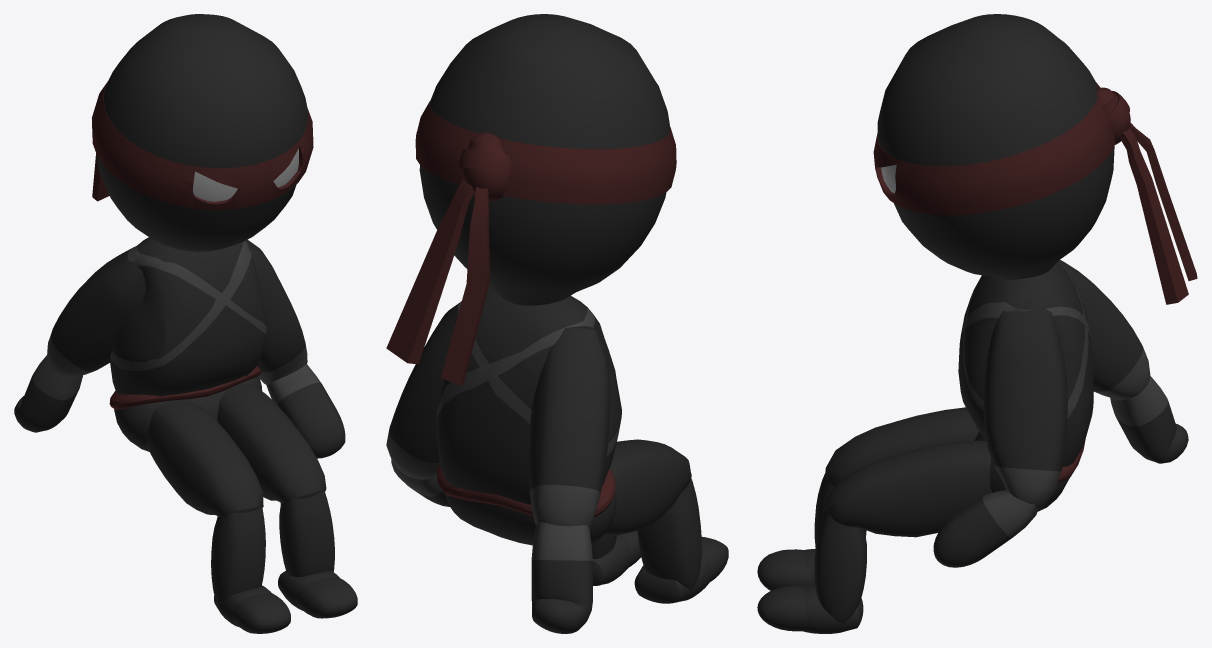
The model's file is ninja_sit.fbx.
3 renders of one model, left to right at view 1: azimuth 30°, elevation 25°; view 2: azimuth 150°, elevation 25°; view 3: azimuth 270°, elevation 25°, orthographic. The views are drawn at different scales.
Parts seen in each view (by area): view 1: ninja_sit; view 2: ninja_sit; view 3: ninja_sit.
Part boxes in pixels (bbox=[...]): ninja_sit: bbox=[14, 14, 357, 633]; ninja_sit: bbox=[386, 14, 728, 633]; ninja_sit: bbox=[757, 14, 1197, 633].
Bounding box in the file's own units: 78.82 × 173 × 117.
